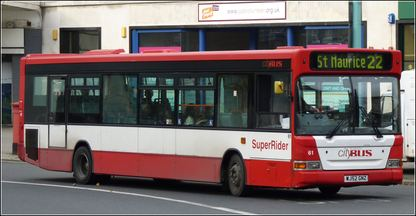bus: (16, 45, 404, 195)
